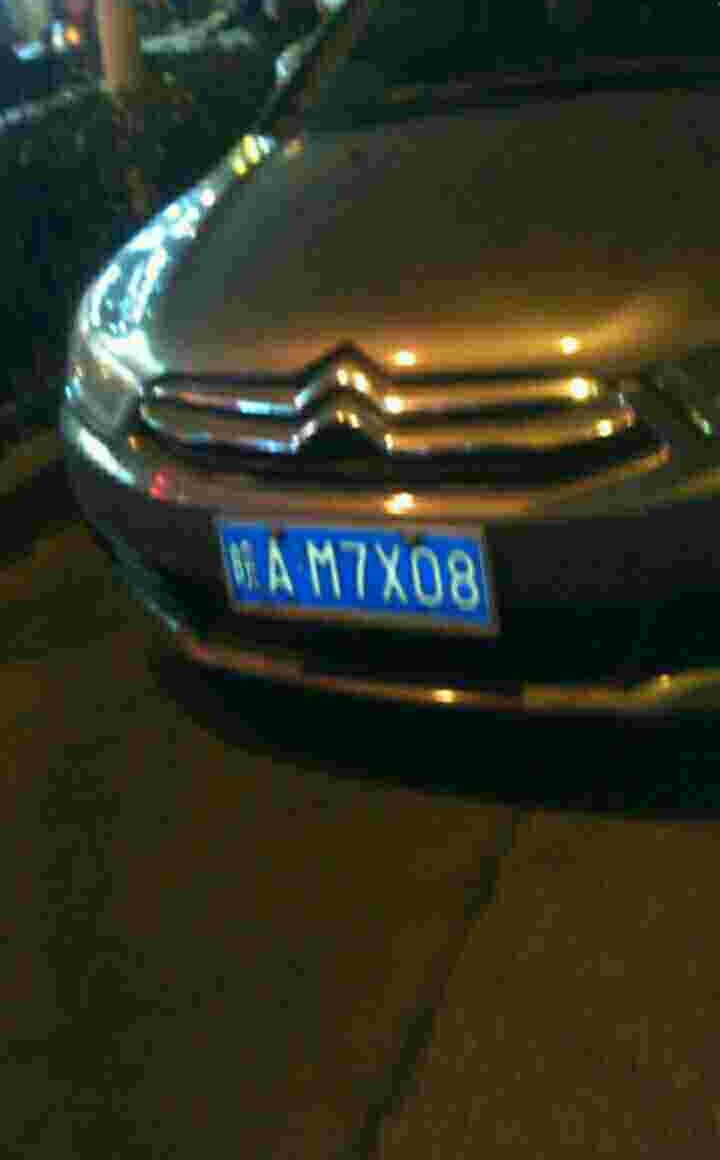license_plate: (230, 524, 485, 624)
